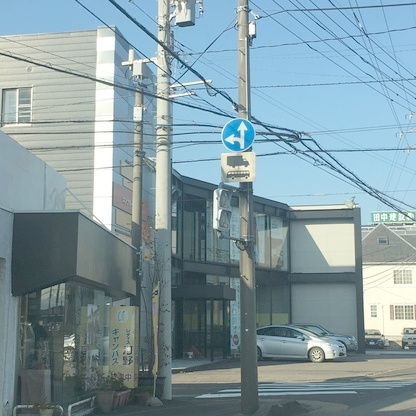Direction_sign: (219, 117, 261, 157)
